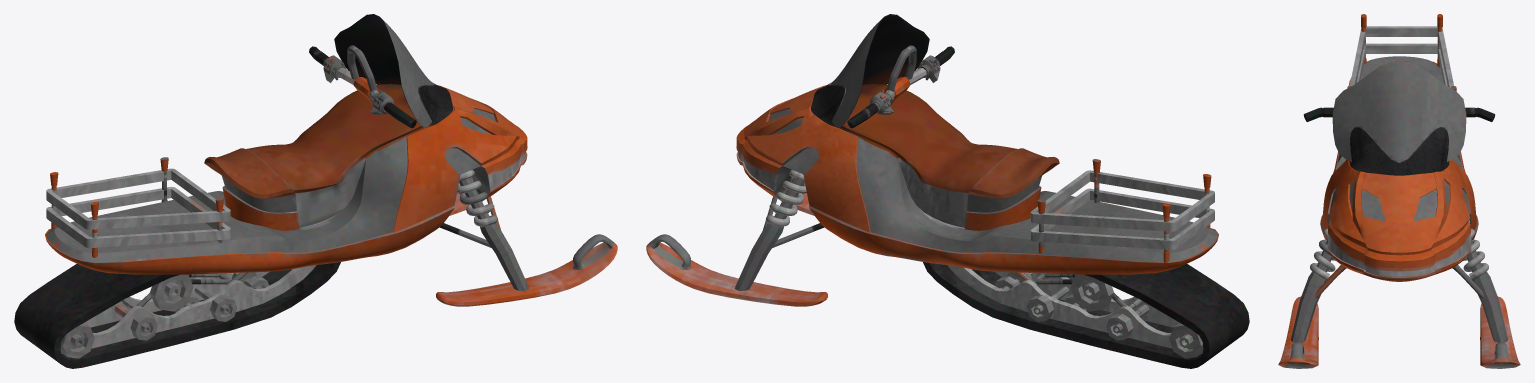
The model's file is snowcar.fbx.
The picture shows the model from 3 angles, left to right: view 1: azimuth 30°, elevation 25°; view 2: azimuth 150°, elevation 25°; view 3: azimuth 270°, elevation 25°; orthographic projection. The views are drawn at different scales.
Visible parts, largest first — view 1: snowcar; view 2: snowcar; view 3: snowcar.
Boxes of the visible parts, left/top/right/bottom form: snowcar: left=14, top=14, right=617, bottom=368; snowcar: left=646, top=14, right=1249, bottom=368; snowcar: left=1278, top=14, right=1520, bottom=368.
Size of the model in its own units: 1209 by 577 by 515.
